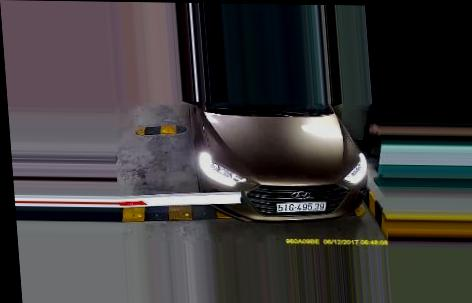License_Plate: (273, 199, 327, 212)
